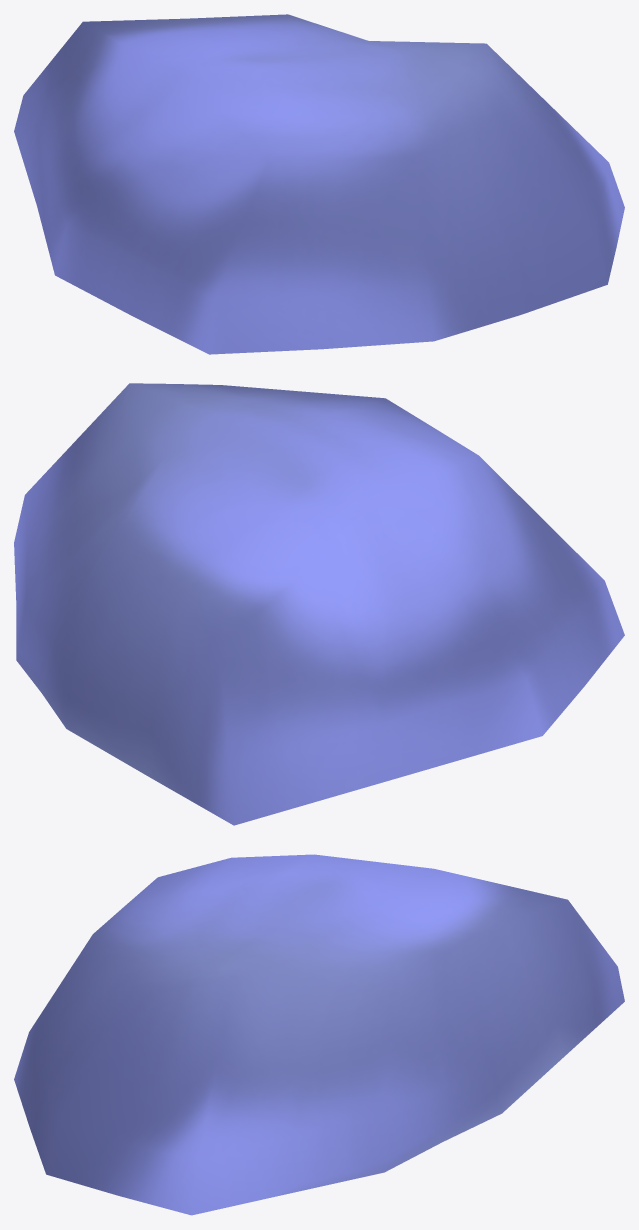
The model's file is Swamp_Rocks_5.glb.
3 renders of one model, top to bottom at view 1: azimuth 30°, elevation 25°; view 2: azimuth 150°, elevation 25°; view 3: azimuth 270°, elevation 25°, orthographic. The views are drawn at different scales.
Visible parts, largest first — view 1: Cube.006; view 2: Cube.006; view 3: Cube.006.
Part boxes in pixels (x1,y1,x2,y2): Cube.006: [14, 14, 624, 354]; Cube.006: [14, 383, 624, 825]; Cube.006: [14, 854, 624, 1215].
Size of the model in its own units: 46.27 by 16.29 by 47.68.
1 material, 1 textured.
